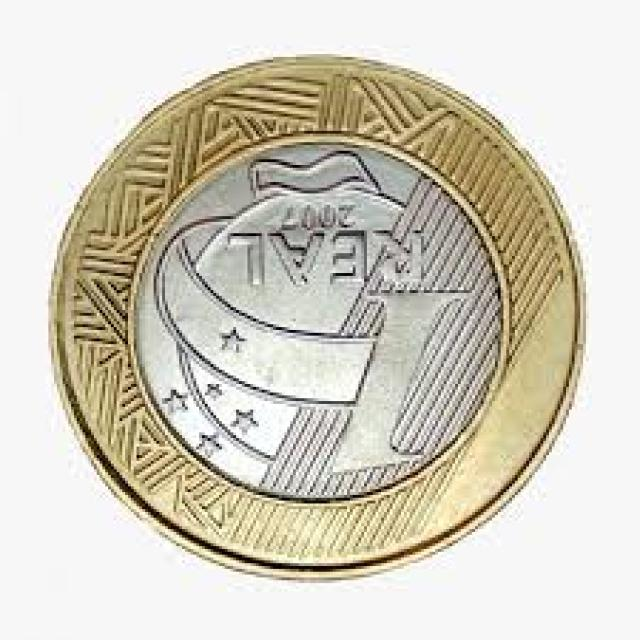1 real: (56, 56, 562, 552)
